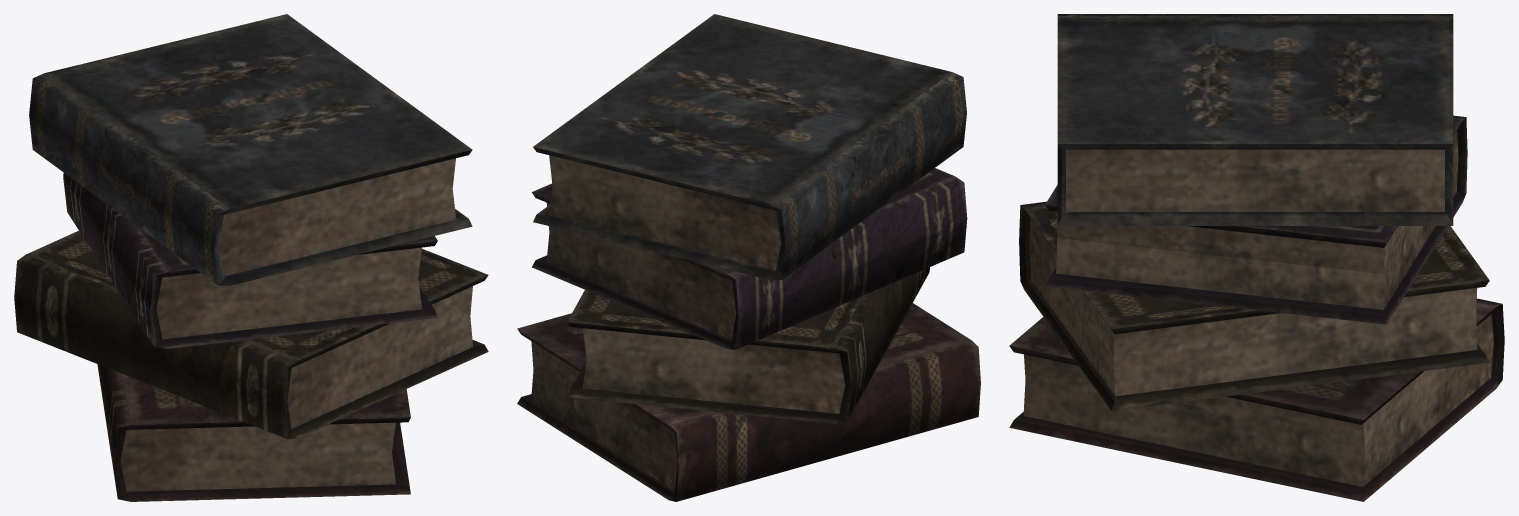
The model's file is book_pile01.dae.
3 renders of one model, left to right at view 1: azimuth 30°, elevation 25°; view 2: azimuth 150°, elevation 25°; view 3: azimuth 270°, elevation 25°, orthographic. The views are drawn at different scales.
Visible parts, largest first — view 1: polySurface1; view 2: polySurface1; view 3: polySurface1.
Part boxes in pixels (x1=…): polySurface1: x1=14, y1=14, x2=488, y2=501; polySurface1: x1=517, y1=14, x2=980, y2=501; polySurface1: x1=1009, y1=14, x2=1504, y2=501.
Size of the model in its own units: 0.4073 by 0.32 by 0.4384.
